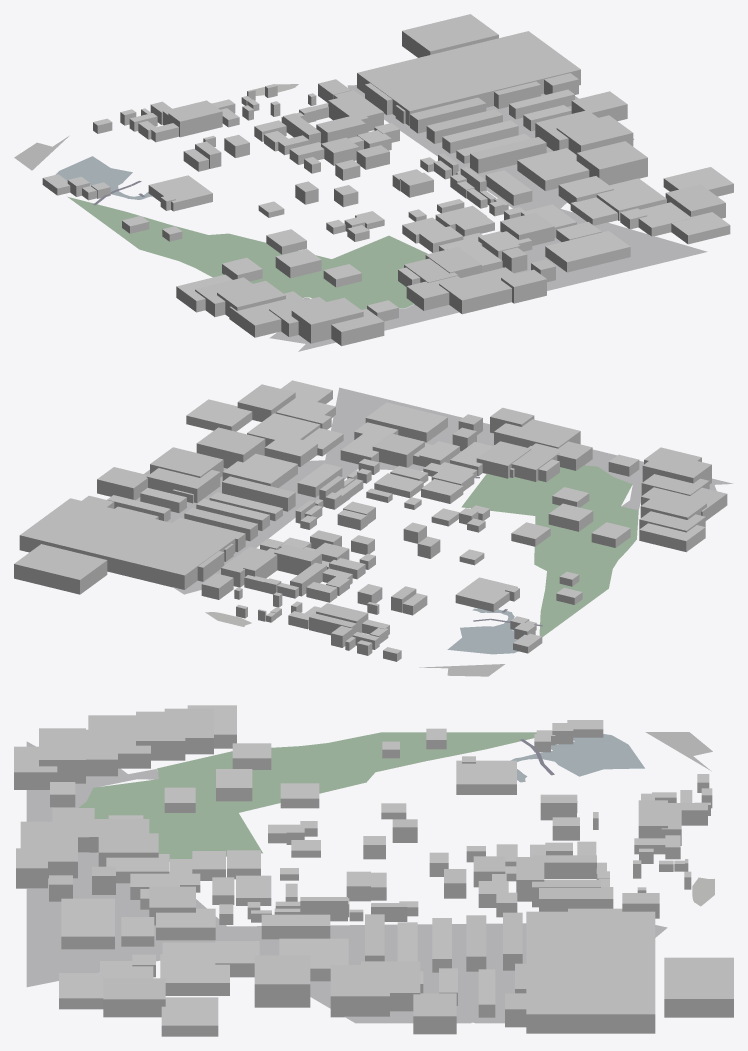
File: 116_98_mid.glb
3 renders of one model, top to bottom at view 1: azimuth 30°, elevation 25°; view 2: azimuth 150°, elevation 25°; view 3: azimuth 270°, elevation 25°, orthographic. The views are drawn at different scales.
Bounding box in the file's own units: 544 × 19.75 × 523.
